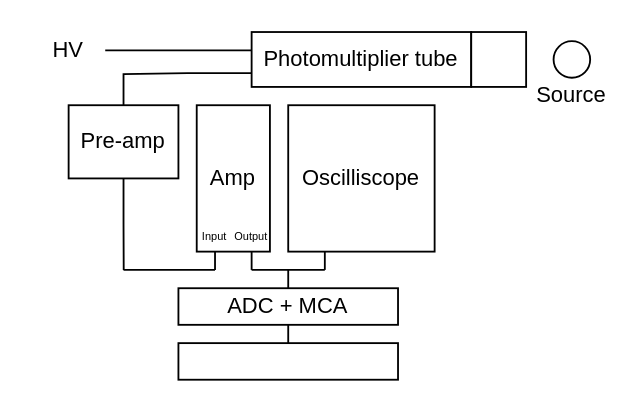
The diagram is 639 pixels wide and 412 high, and some of its shapes have lost their labels. The shapes that lost their labels are listed below. From the top down, each one's box as (x1, y1, x2, y2) in pixels, then its label:
(469, 30, 526, 87): NaI
(177, 341, 398, 380): PC
